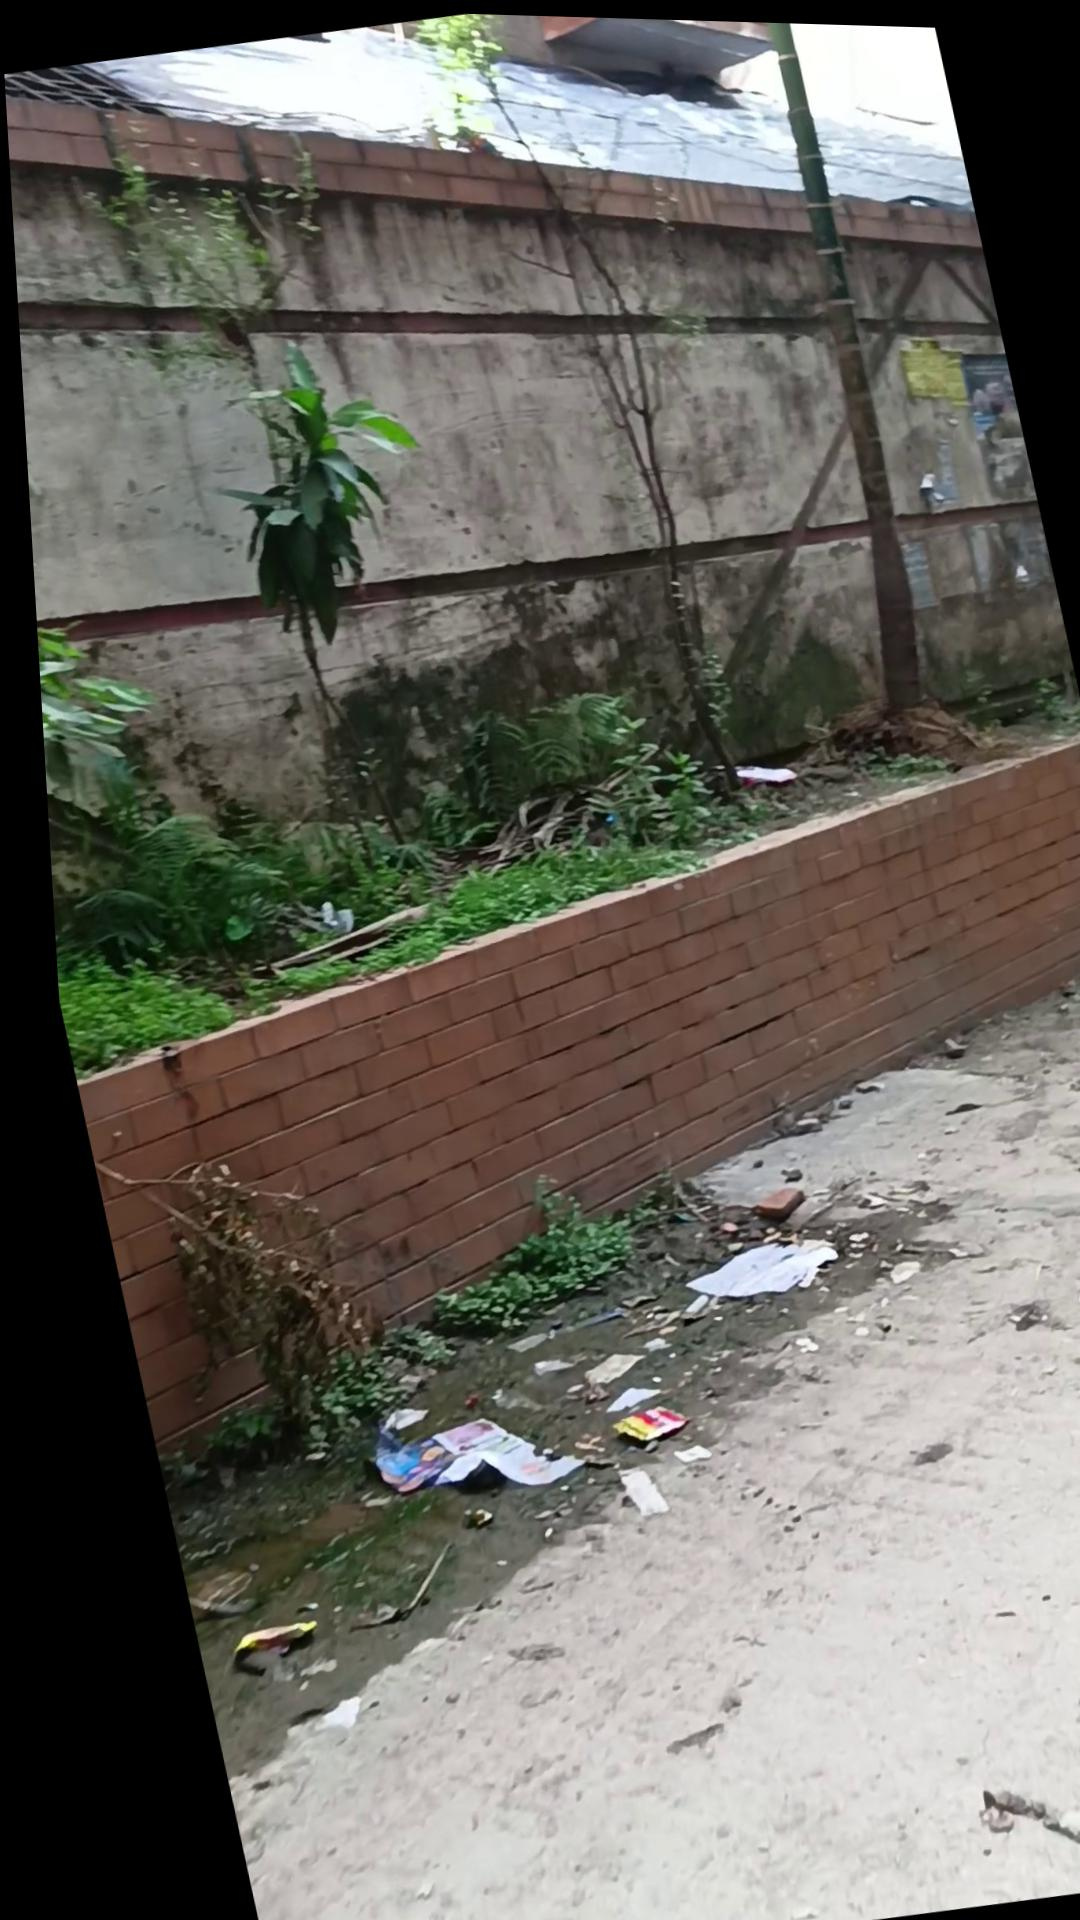Broken-road: (58, 892, 1080, 1920)
Motorcycle: (949, 1760, 1080, 1867)
Traffic-cone: (198, 340, 465, 877)
Tree: (32, 696, 1080, 1472)
